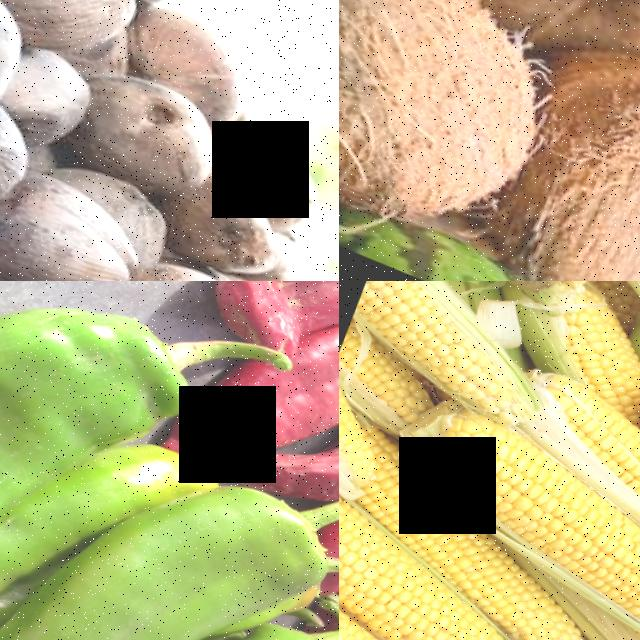chilli: (0, 401, 339, 640)
coconut: (339, 0, 583, 265), (477, 0, 640, 281), (77, 52, 243, 199), (0, 156, 160, 281), (100, 233, 295, 281), (0, 0, 171, 54)
corn: (391, 389, 640, 640), (339, 484, 639, 640), (339, 281, 571, 419), (427, 520, 619, 640), (521, 362, 640, 552), (339, 600, 464, 640)
